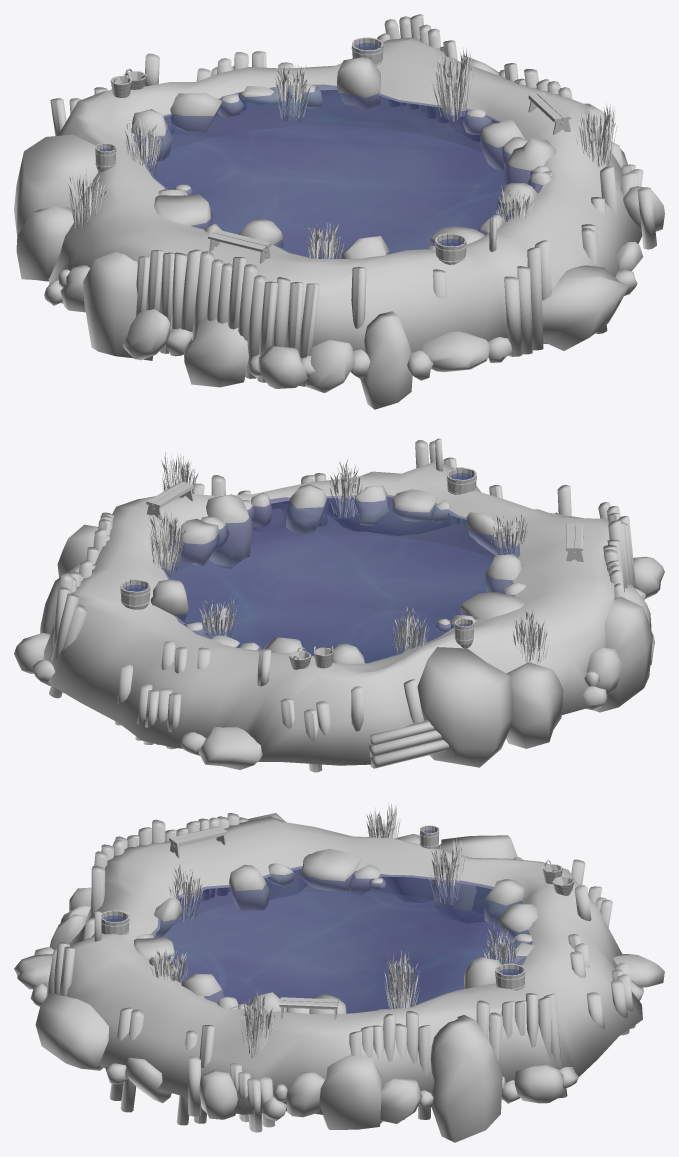
Rendered from Pond3.fbx.
3 renders of one model, top to bottom at view 1: azimuth 30°, elevation 25°; view 2: azimuth 150°, elevation 25°; view 3: azimuth 270°, elevation 25°, orthographic. The views are drawn at different scales.
Parts seen in each view (by area): view 1: Pond.001, Water, Rock.024, Rock.040, Rock.028, Rock.057, Rock.034, Rock.025, Rock.038, Rock.044, Rock.058, Grass.136 (+47 smaller); view 2: Pond.001, Water, Rock.024, Rock.025, Rock.028, Rock.009, Rock.026, Grass.136, Rock.053, Rock.040, Rock.001, Rock.003 (+31 smaller); view 3: Pond.001, Water, Rock.019, Rock.040, Rock.013, Rock.024, Rock.003, Rock.018, Rock.041, Rock.020, Rock.049, Grass.004 (+39 smaller).
Part boxes in pixels (x1,y1,x2,y2): Pond.001: (48,37,642,352); Water: (133,84,542,258); Rock.024: (14,134,97,236); Rock.040: (542,265,629,350); Rock.028: (83,251,152,360); Rock.057: (360,311,412,409); Rock.034: (184,318,248,387); Rock.025: (16,206,74,281); Rock.038: (421,331,490,372); Rock.044: (337,57,381,109); Rock.058: (304,339,354,392); Grass.136: (432,47,474,121); Pond.001: (43,461,614,765); Water: (160,495,520,663); Rock.024: (417,647,513,767); Rock.025: (506,662,563,748); Rock.028: (592,596,652,712); Rock.009: (206,494,253,568); Rock.026: (198,727,262,769); Grass.136: (149,506,186,577); Rock.053: (285,484,327,534); Rock.040: (327,471,451,535); Rock.001: (175,518,219,565); Rock.003: (460,592,524,619); Pond.001: (47,816,642,1114); Water: (149,866,532,1013); Rock.019: (430,1015,502,1142); Rock.040: (35,993,108,1070); Rock.013: (319,1055,383,1129); Rock.024: (432,835,517,923); Rock.003: (299,849,361,891); Rock.018: (514,1063,563,1103); Rock.041: (199,1070,237,1119); Rock.020: (380,1078,422,1124); Rock.049: (229,865,269,911); Grass.004: (427,838,466,904).
Size of what is drawn, in the model's own units: 2802 by 750 by 2592.
